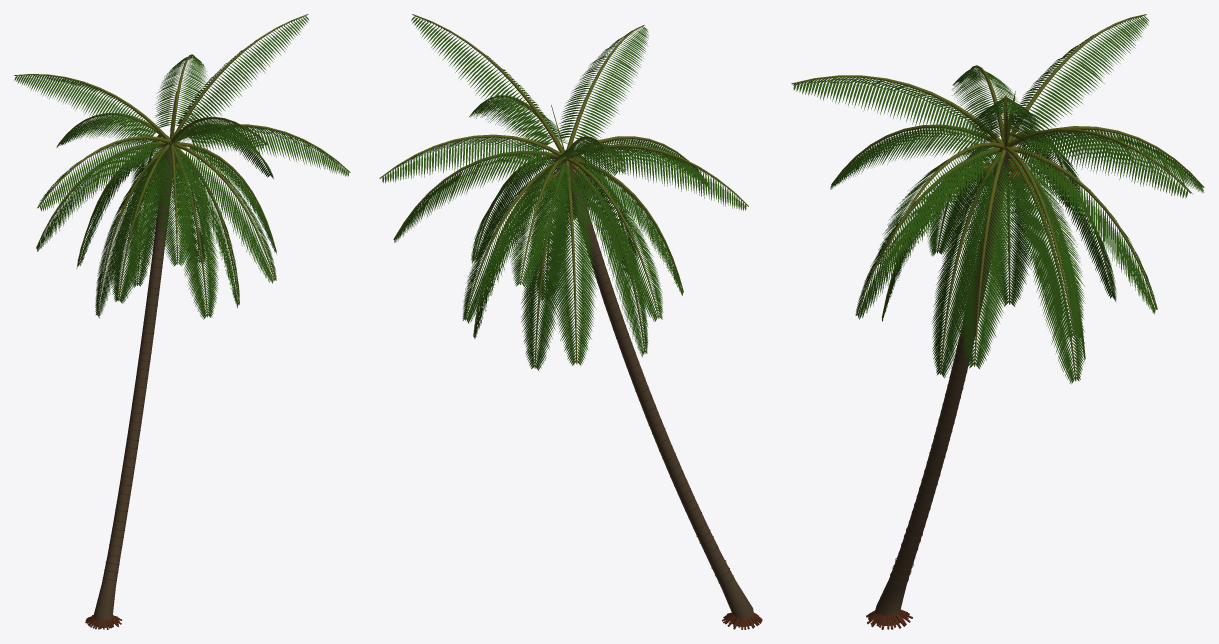
Rendered from coconut_palm.glb.
3 renders of one model, left to right at view 1: azimuth 30°, elevation 25°; view 2: azimuth 150°, elevation 25°; view 3: azimuth 270°, elevation 25°, orthographic. The views are drawn at different scales.
Visible parts, largest first — view 1: Leaflets, Fronds (rachises), Curved trunk and root boss; view 2: Leaflets, Fronds (rachises), Curved trunk and root boss; view 3: Leaflets, Fronds (rachises), Curved trunk and root boss.
Part boxes in pixels (x1,y1,x2,y2): Leaflets: [14, 16, 349, 319]; Fronds (rachises): [14, 14, 350, 317]; Curved trunk and root boss: [85, 141, 176, 629]; Leaflets: [382, 16, 748, 370]; Fronds (rachises): [379, 14, 748, 368]; Curved trunk and root boss: [561, 157, 762, 629]; Leaflets: [793, 16, 1204, 384]; Fronds (rachises): [791, 14, 1204, 381]; Curved trunk and root boss: [866, 146, 1012, 629].
Size of the model in its own units: 8.86 by 15.28 by 8.57.
Materials: 8 (8 with a texture image).
